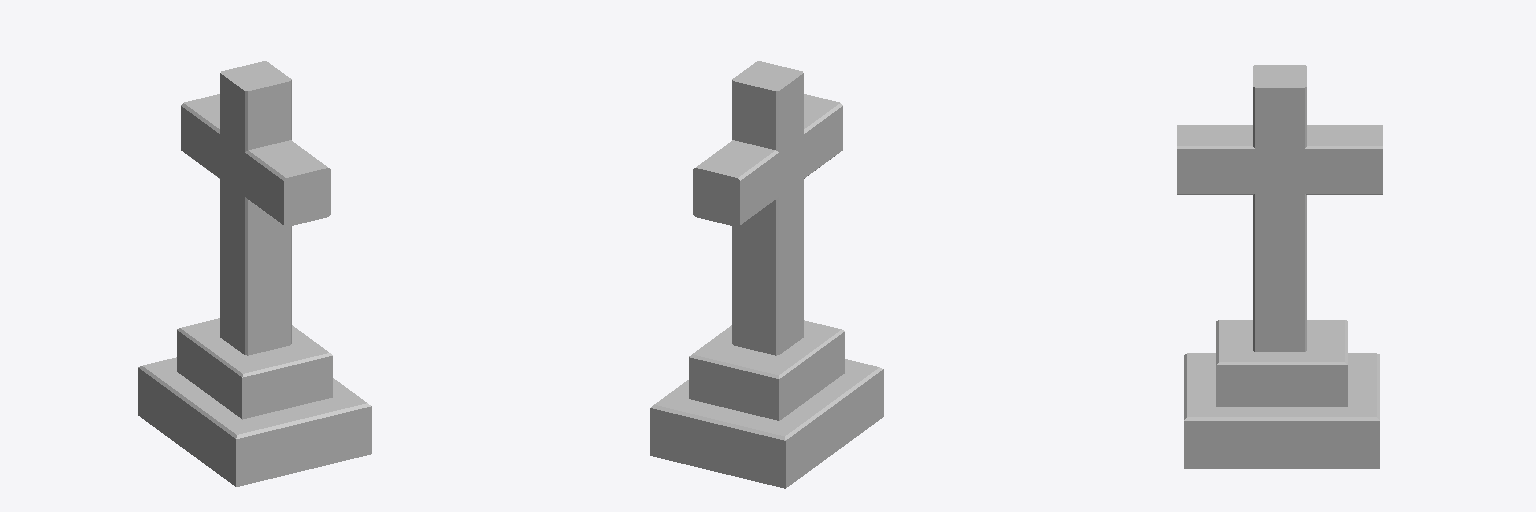
File: Figura Religiosa Grande.obj
3 renders of one model, left to right at view 1: azimuth 30°, elevation 25°; view 2: azimuth 150°, elevation 25°; view 3: azimuth 270°, elevation 25°, orthographic.
Parts seen in each view (by area): view 1: Figura_Religiosa_GRANDE_MESH; view 2: Figura_Religiosa_GRANDE_MESH; view 3: Figura_Religiosa_GRANDE_MESH.
Boxes of the visible parts, <box> form: Figura_Religiosa_GRANDE_MESH: <box>138,61,371,486</box>; Figura_Religiosa_GRANDE_MESH: <box>650,61,883,488</box>; Figura_Religiosa_GRANDE_MESH: <box>1177,65,1382,468</box>.
Size of the model in its own units: 0.3548 by 0.9006 by 0.4676.